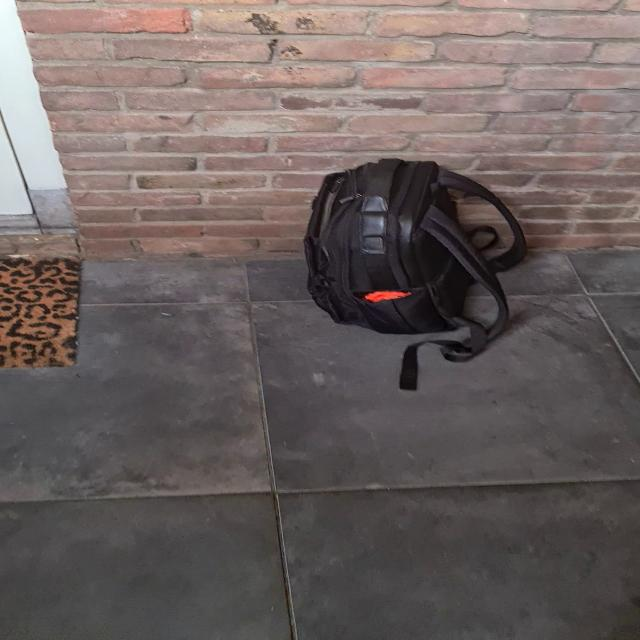backpack: (291, 151, 530, 353)
